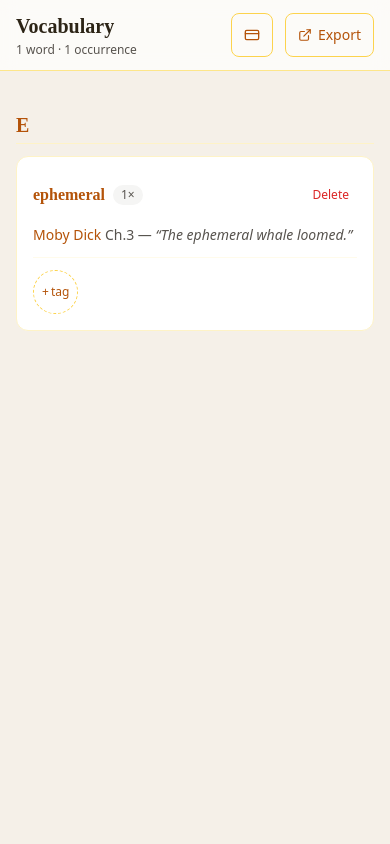
Test case: a successful download is reported in the status line
Expected: the button "ephemeral" is shown, [33,173,105,217]
Click the button with test id "export-all-btn". click: [329, 35]
box: [285,13,374,57]
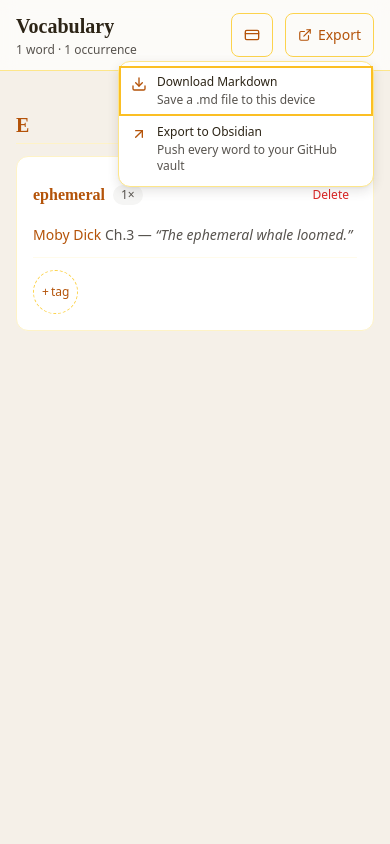
Click the menu item "Download Markdown Save a .md file to this device". click: [246, 91]
box: [119,66,373,116]
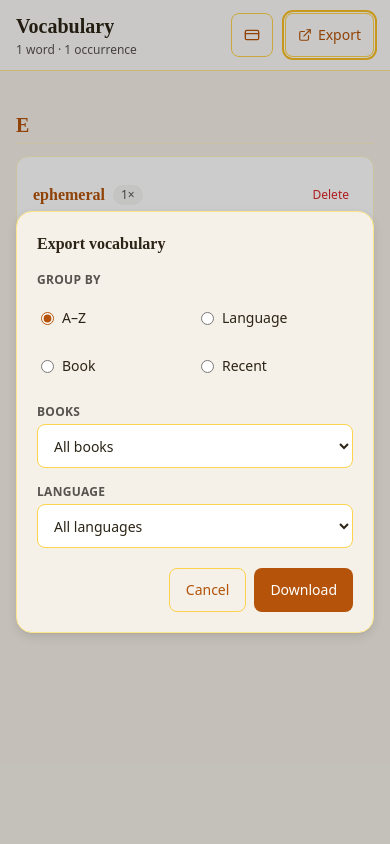
Click the button "Download". click: [304, 590]
box: [254,568,353,612]
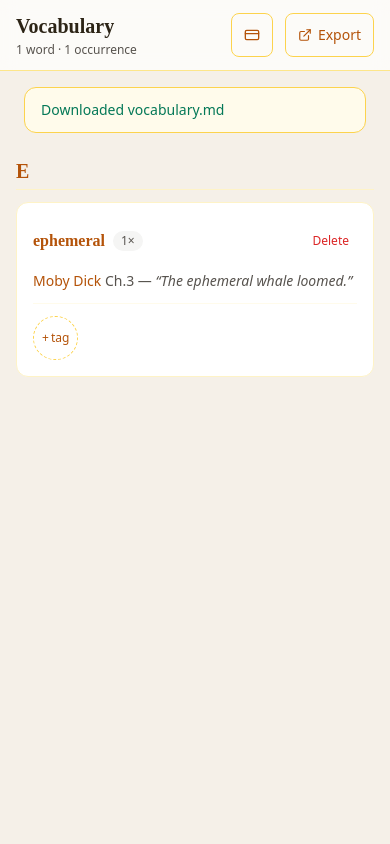
Expected: the text "Downloaded vocabulary.md" is shown, [41,100,224,119]
